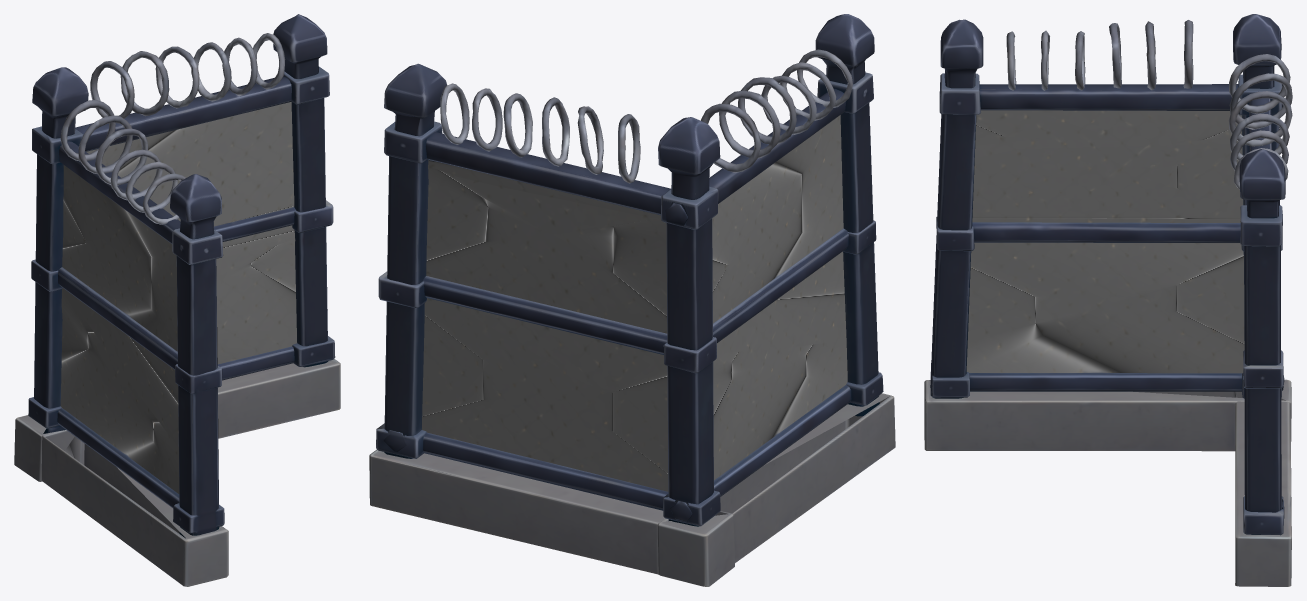
Rendered from fence-corner.glb.
3 renders of one model, left to right at view 1: azimuth 30°, elevation 25°; view 2: azimuth 150°, elevation 25°; view 3: azimuth 270°, elevation 25°, orthographic. The views are drawn at different scales.
Visible parts, largest first — view 1: geometry_0; view 2: geometry_0; view 3: geometry_0.
Boxes of the visible parts, x1,y1,x2,y2 form: geometry_0: (14, 14, 340, 586); geometry_0: (369, 14, 895, 586); geometry_0: (924, 14, 1292, 586).
Size of the model in its own units: 0.7966 by 1 by 0.7766.
1 material, 1 textured.
